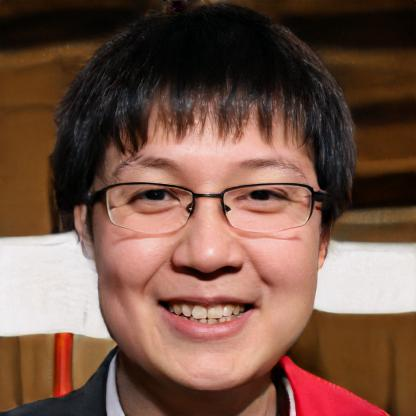glasses: (96, 178, 322, 236)
